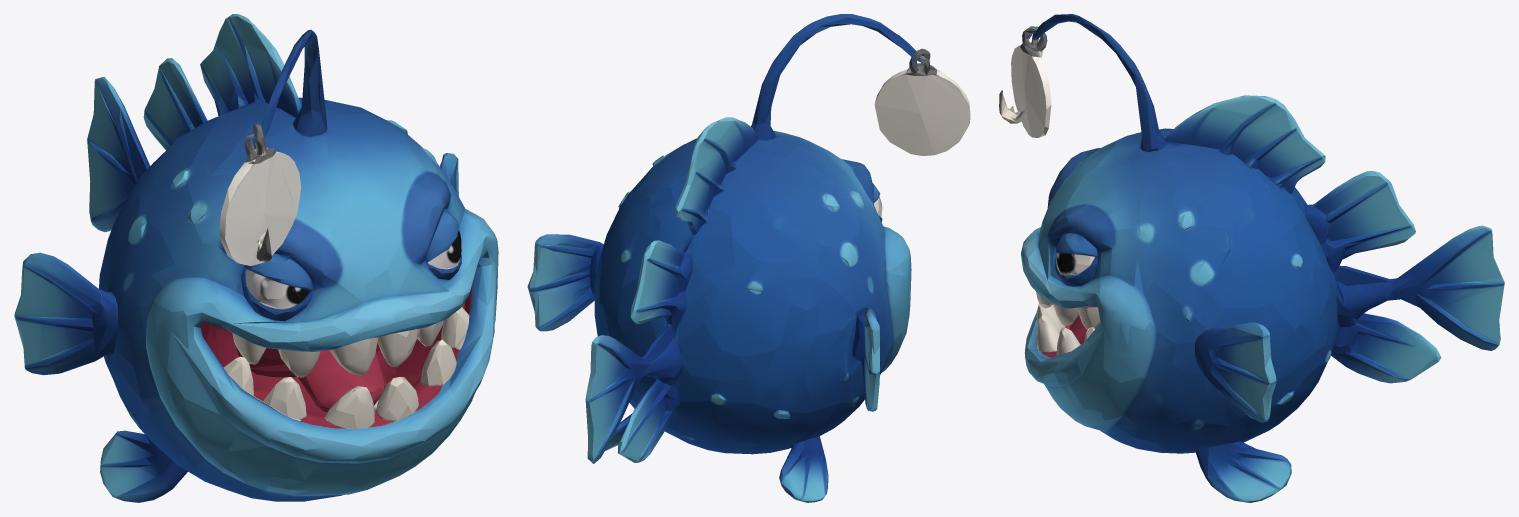
Rendered from phishing-angler.glb.
3 renders of one model, left to right at view 1: azimuth 30°, elevation 25°; view 2: azimuth 150°, elevation 25°; view 3: azimuth 270°, elevation 25°, orthographic. The views are drawn at different scales.
Bounding box in the file's own units: 1.54 × 1.71 × 1.9.
1 material, 1 textured.
